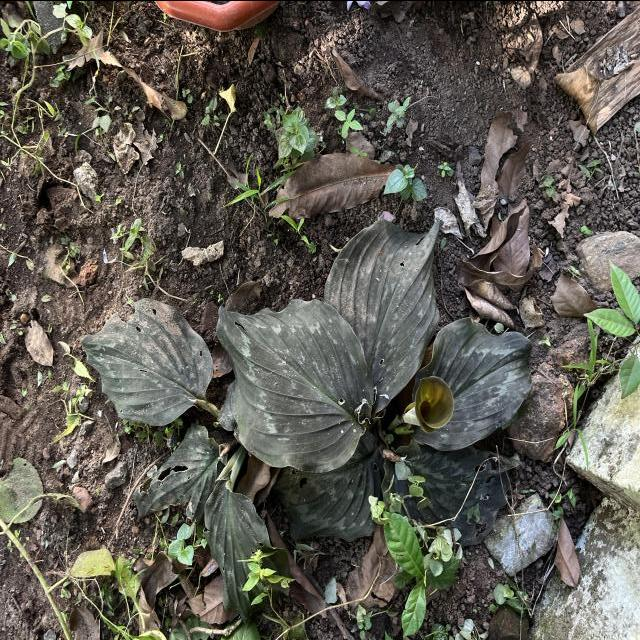Kaempferia galanga linn: (214, 294, 376, 476), (322, 214, 445, 414), (76, 294, 216, 428), (408, 315, 534, 452)
